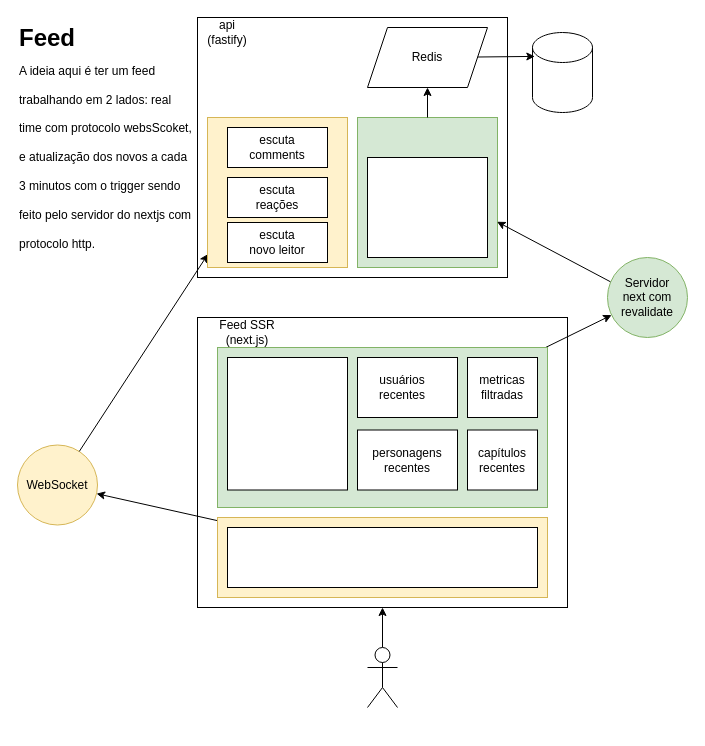
This 705x746 diagram has some shape labels left out. The shapes that lost their labels are listed below. From the top down, each one's centre as x and y in pixels, then its label:
At (562,72): "PostreSQL".
At (427,207): "MountFeedService".
At (287,423): "Livros recentes".
At (382,557): "últimos engajamentos (websockets)".
At (382,677): "Actor".
